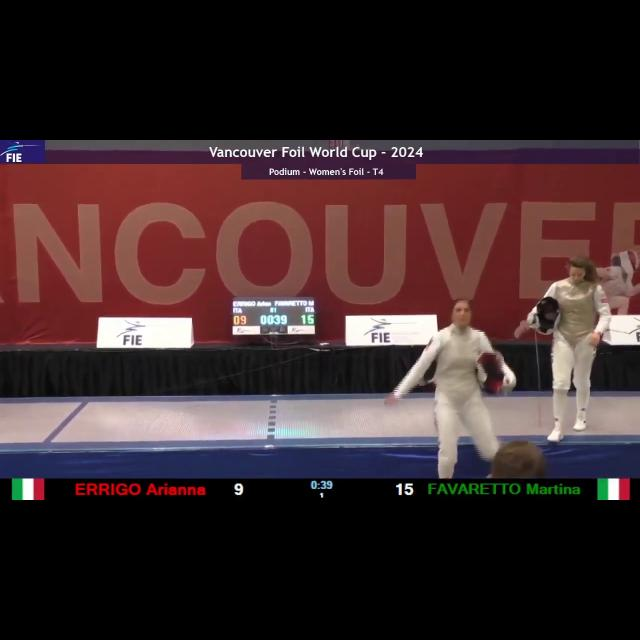blade: (528, 313, 544, 427)
